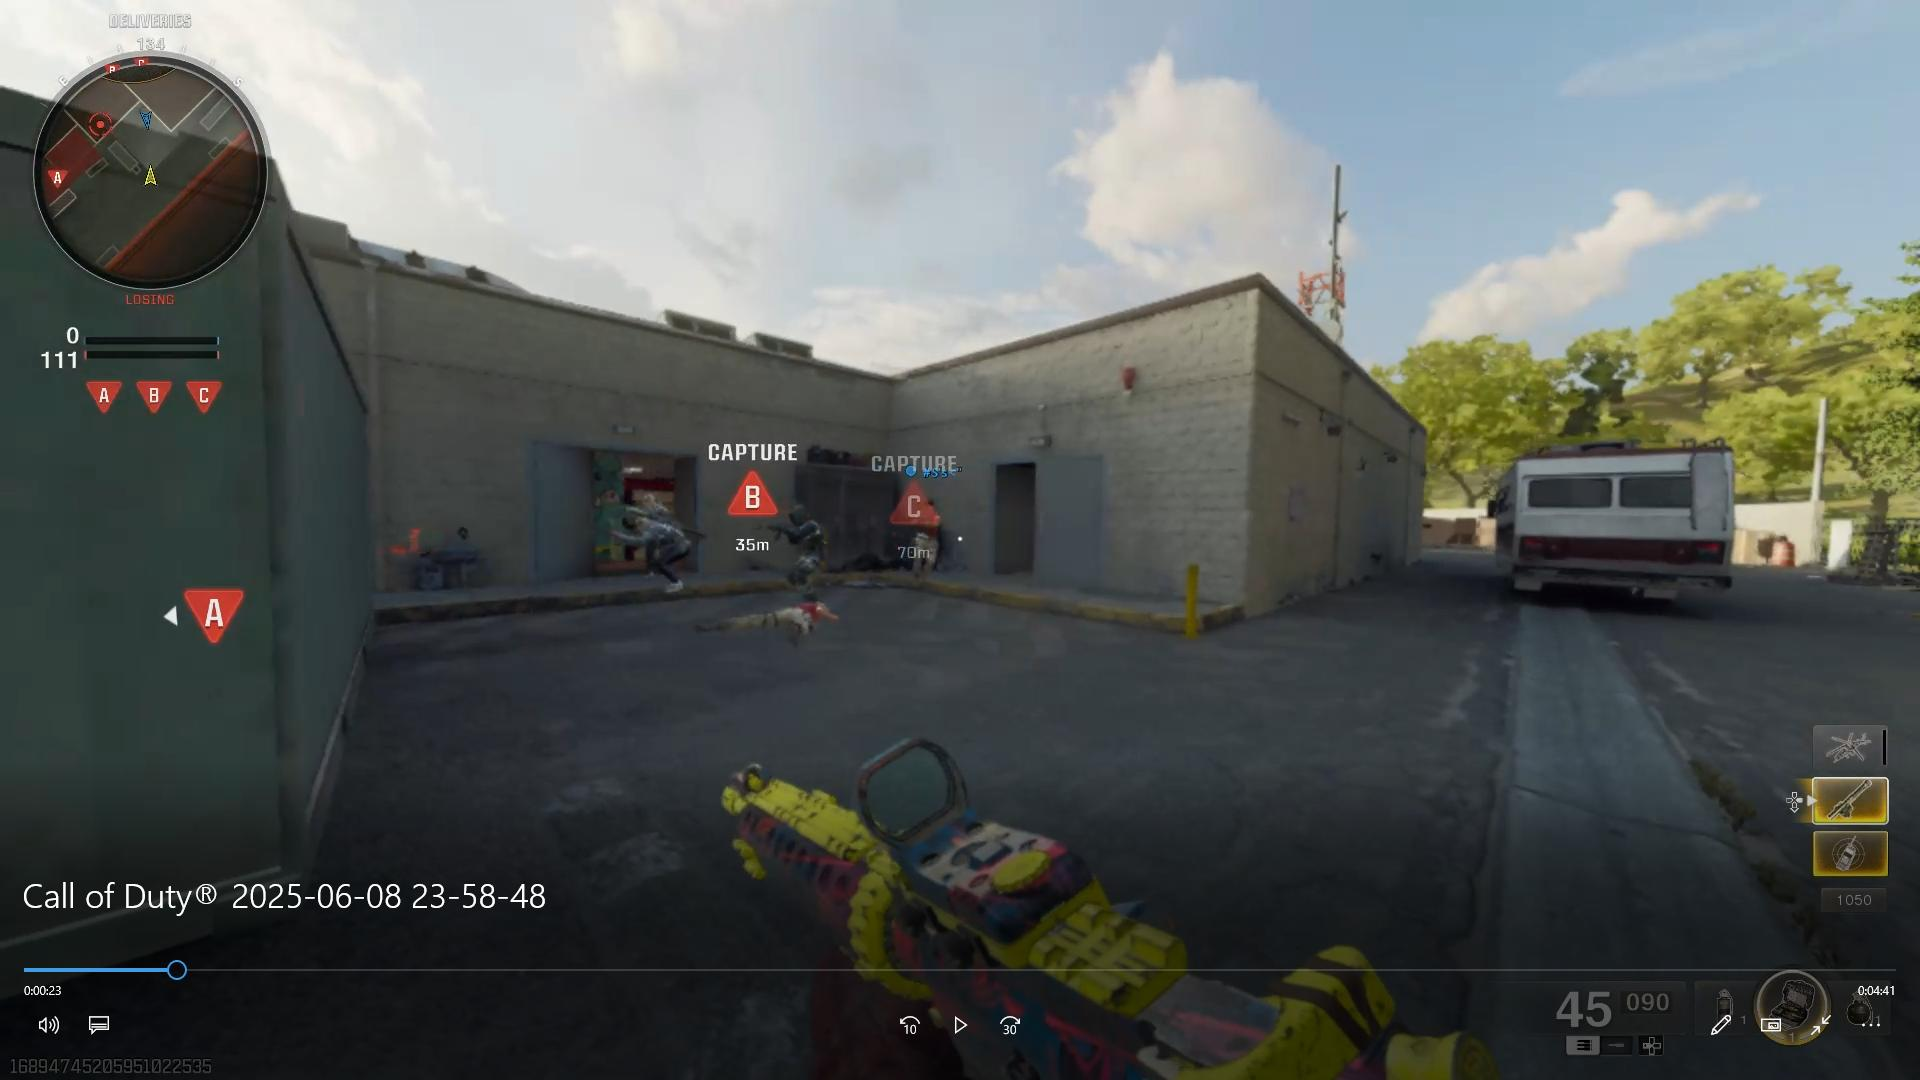Enemy: (769, 508, 835, 593), (624, 512, 691, 593)
